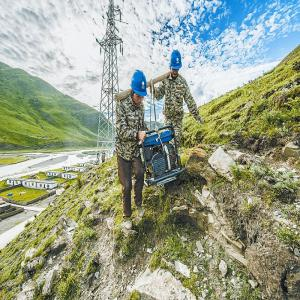blue: (130, 70, 149, 108), (169, 49, 183, 80)
